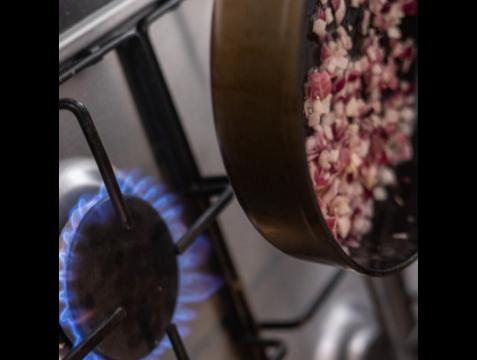controlled_fire: (77, 126, 218, 360)
